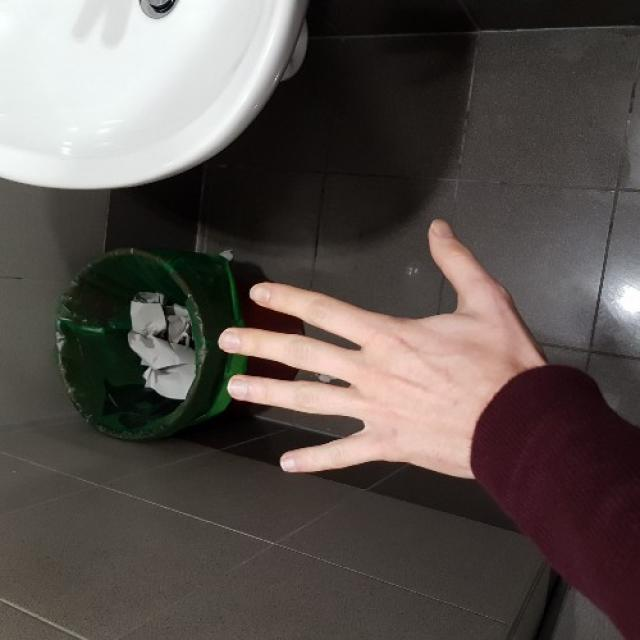paper: (221, 216, 504, 478)
